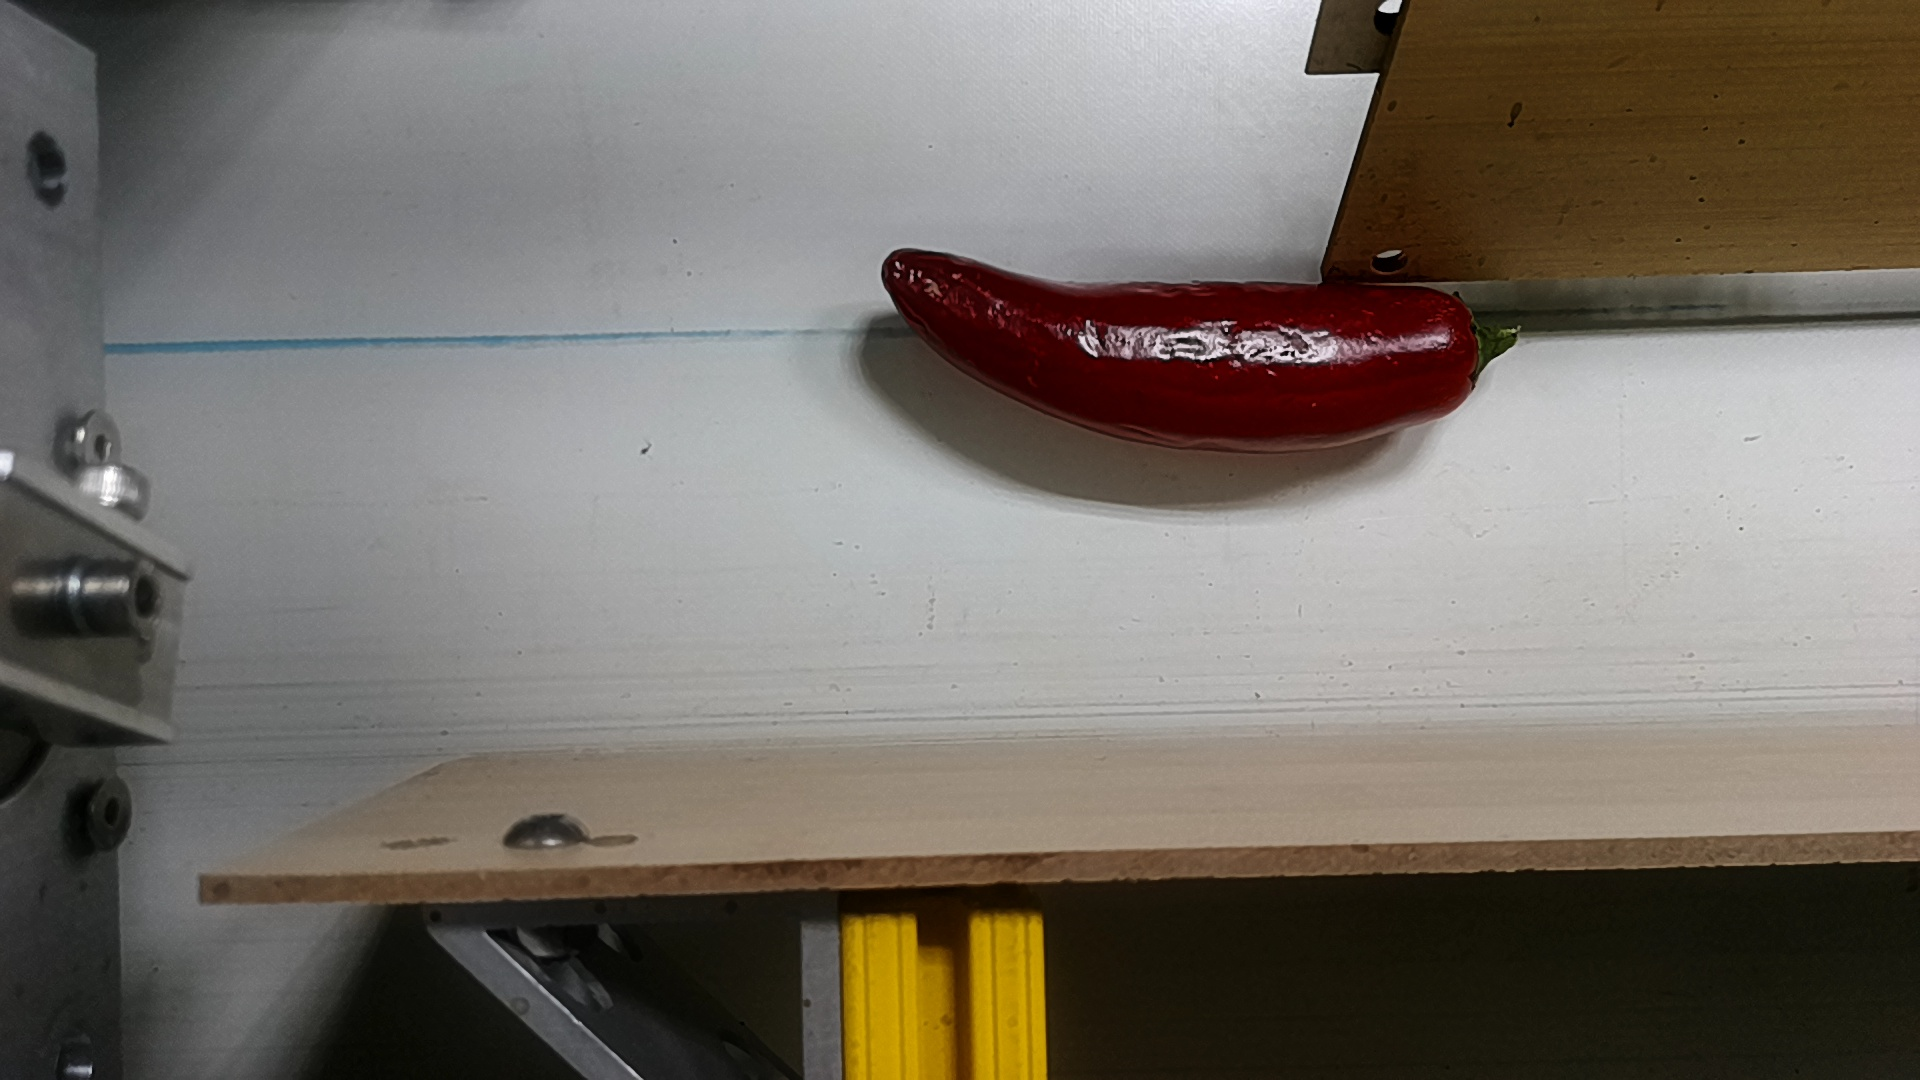Cut Point: (1410, 274, 1516, 425)
